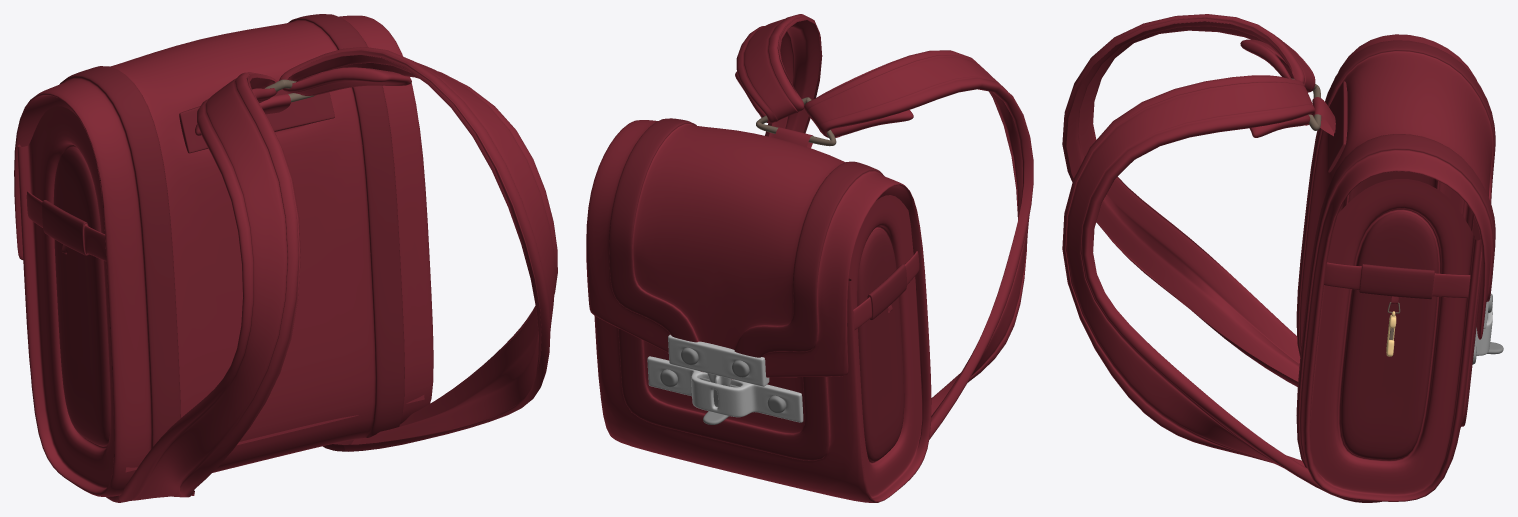
Rendered from School Bag.fbx.
3 views of the same model, side by side, from view 1: azimuth 30°, elevation 25°; view 2: azimuth 150°, elevation 25°; view 3: azimuth 270°, elevation 25° (orthographic). The views are drawn at different scales.
Visible parts, largest first — view 1: 22, 33, 147, 121, 103, 95; view 2: 22, 33, 147, 121, 173, 219, 103, 95, 205, 5, 233; view 3: 22, 121, 33, 147, 77, 69, 54.
Boxes of the visible parts, x1,y1,x2,y2 form: 22: [14, 15, 433, 496]; 33: [53, 14, 404, 447]; 147: [118, 72, 300, 501]; 121: [279, 47, 557, 451]; 103: [42, 200, 88, 255]; 95: [26, 191, 106, 261]; 22: [586, 120, 931, 502]; 33: [609, 118, 904, 461]; 147: [804, 50, 1033, 439]; 121: [735, 14, 822, 137]; 173: [647, 356, 803, 422]; 219: [668, 334, 769, 386]; 103: [867, 264, 906, 319]; 95: [853, 251, 919, 329]; 205: [660, 369, 785, 413]; 5: [756, 97, 836, 146]; 233: [681, 347, 749, 377]; 22: [1299, 34, 1493, 501]; 121: [1062, 75, 1331, 494]; 33: [1296, 40, 1495, 467]; 147: [1062, 14, 1315, 386]; 77: [1359, 264, 1434, 303]; 69: [1324, 262, 1470, 297]; 54: [1312, 97, 1335, 136].
Size of the model in its own units: 28.58 by 34.79 by 34.88.
